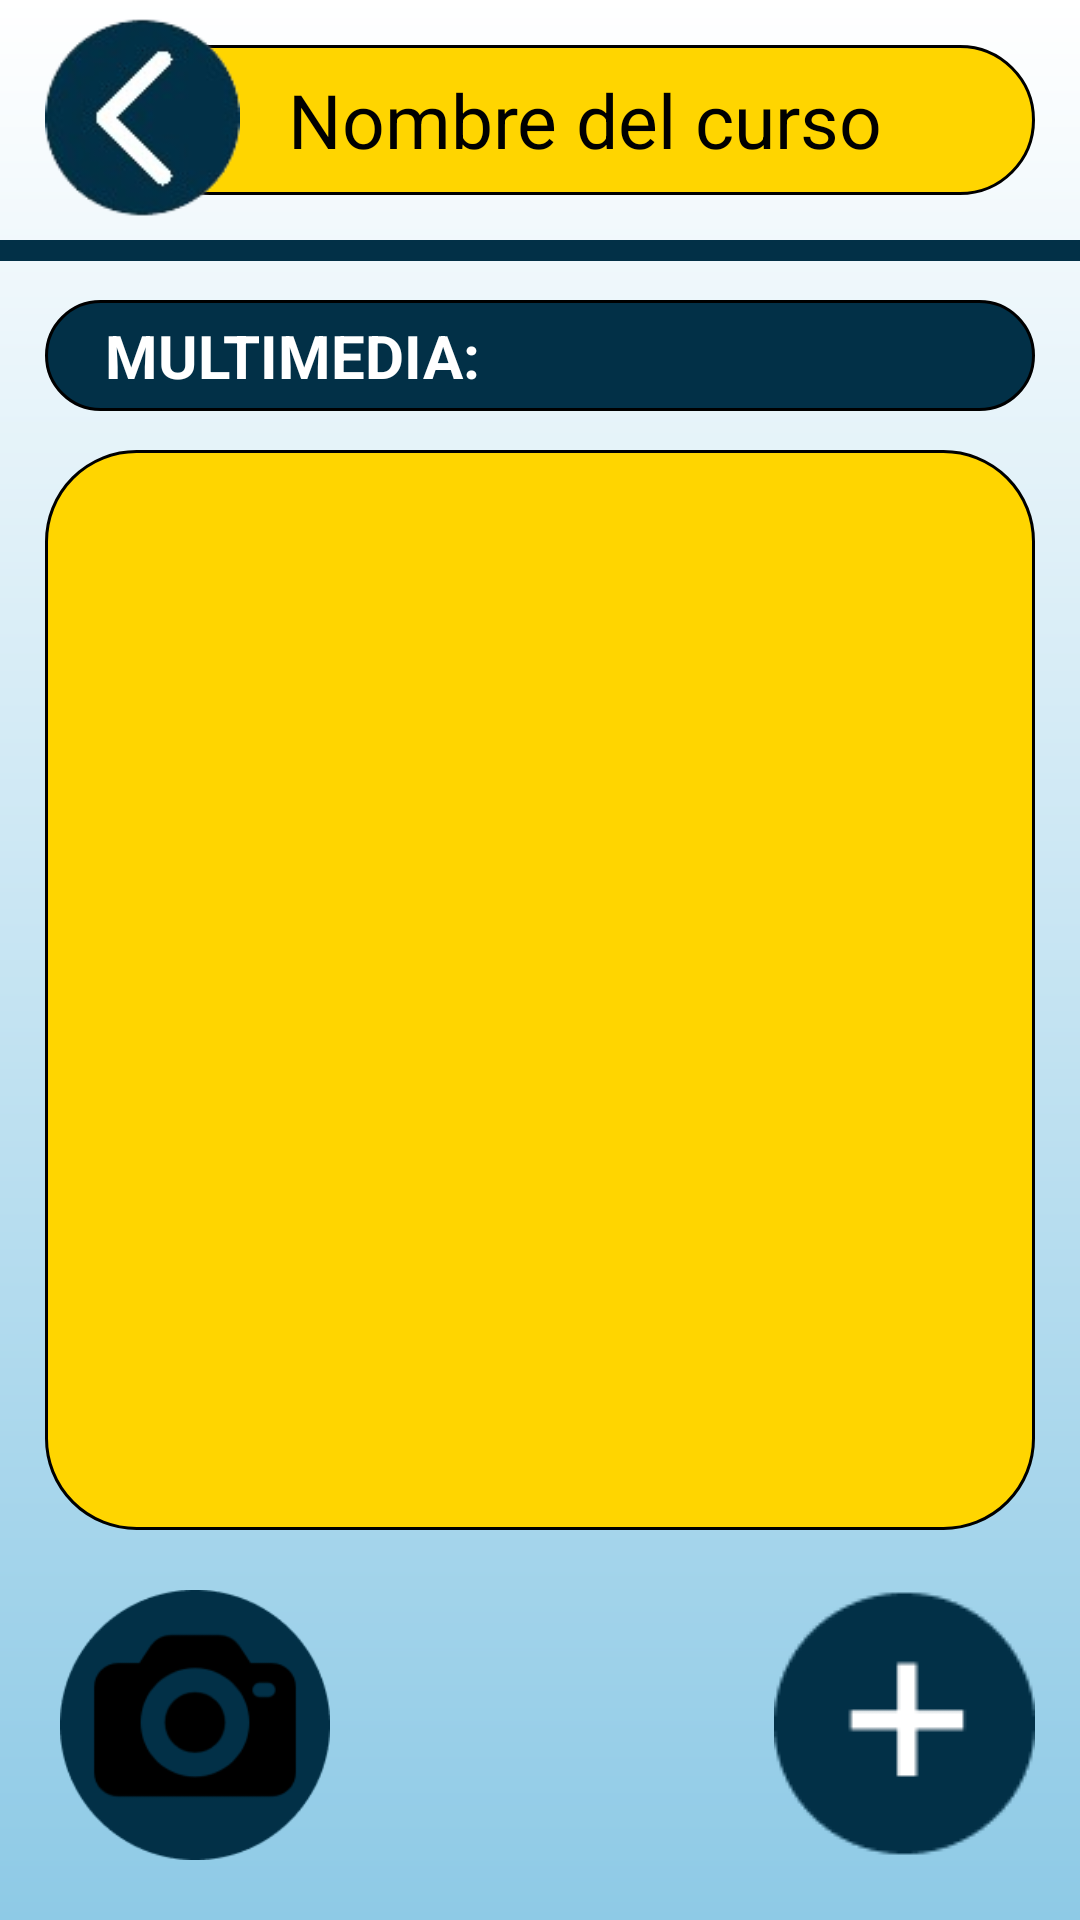

Screen size 1080 x 1920. Icon name, then its center in pixels as (x,y):
back: (120,120)
camara: (195,1725)
mas: (904,1723)
